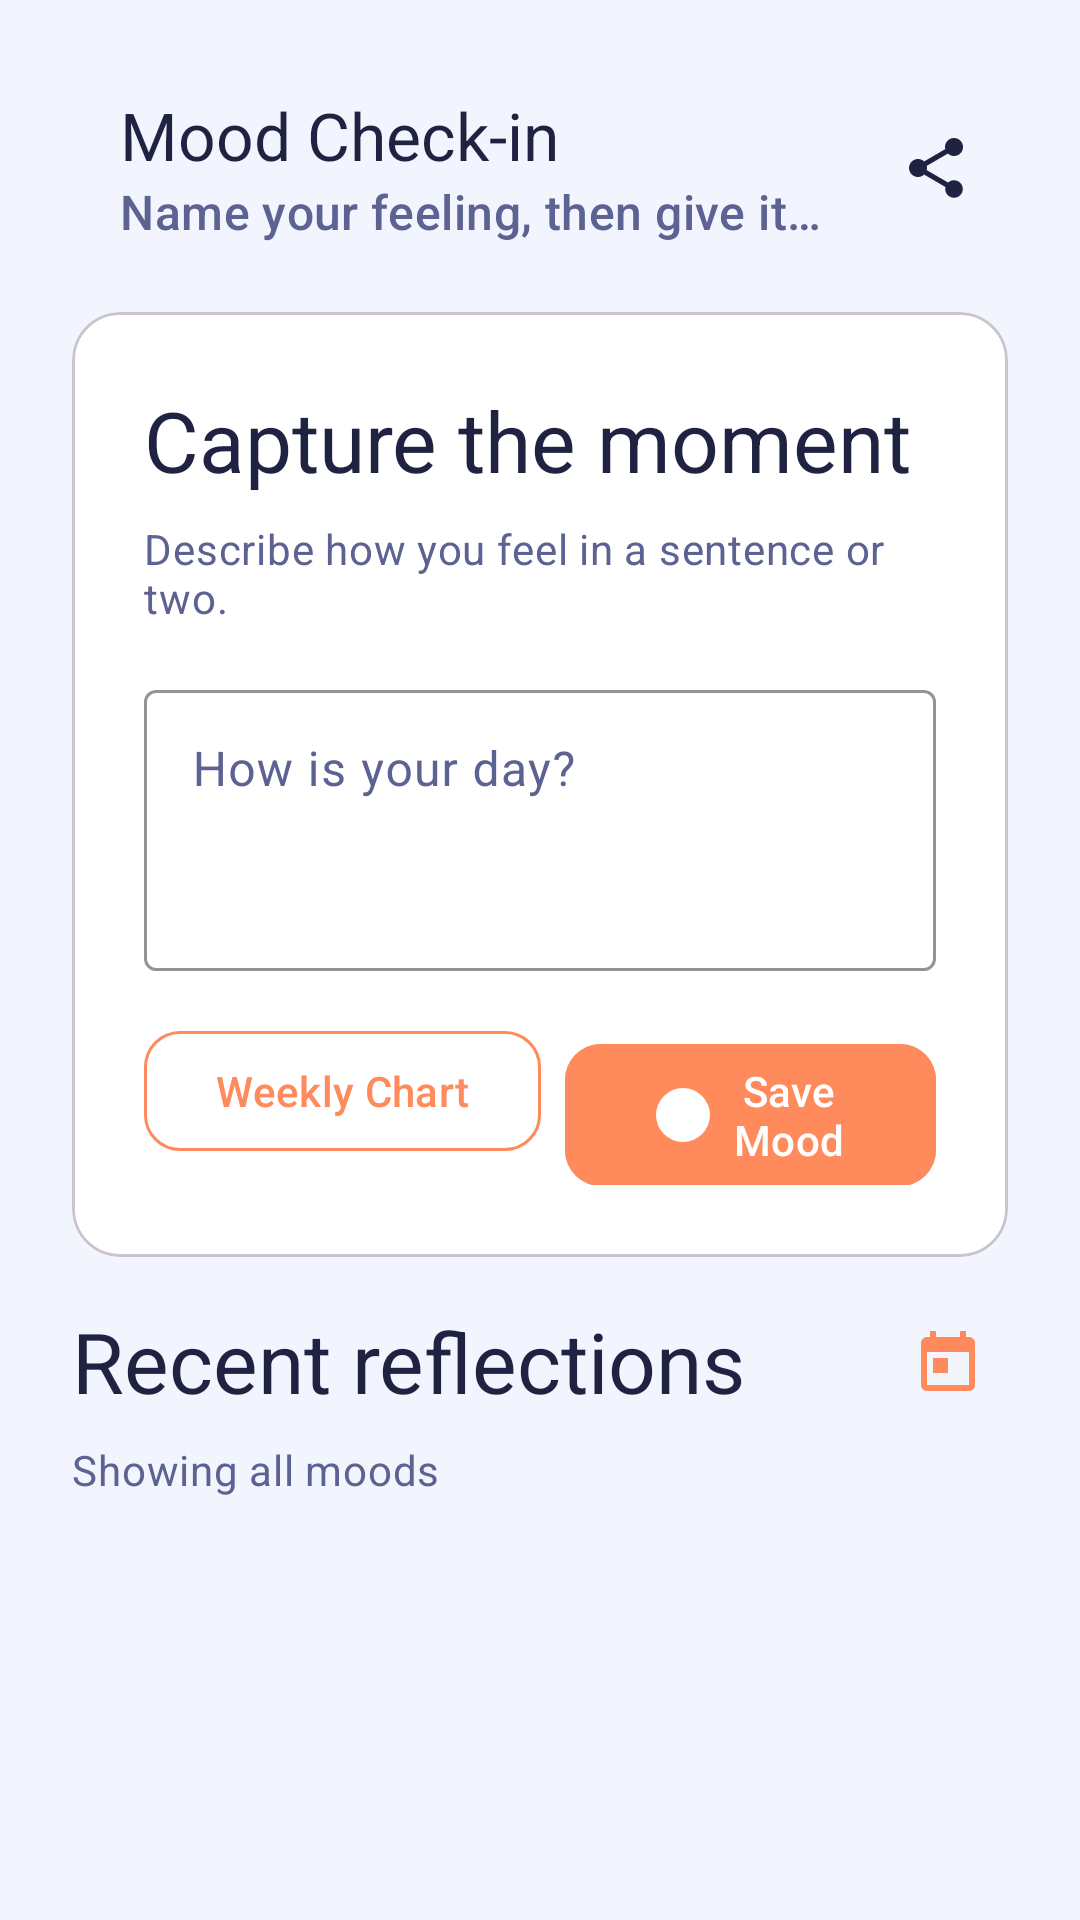

Icons on this 1080*1920 Android screen, each with its box as (x1, y1, x2, y2):
Select date: (921, 1331, 975, 1391)
